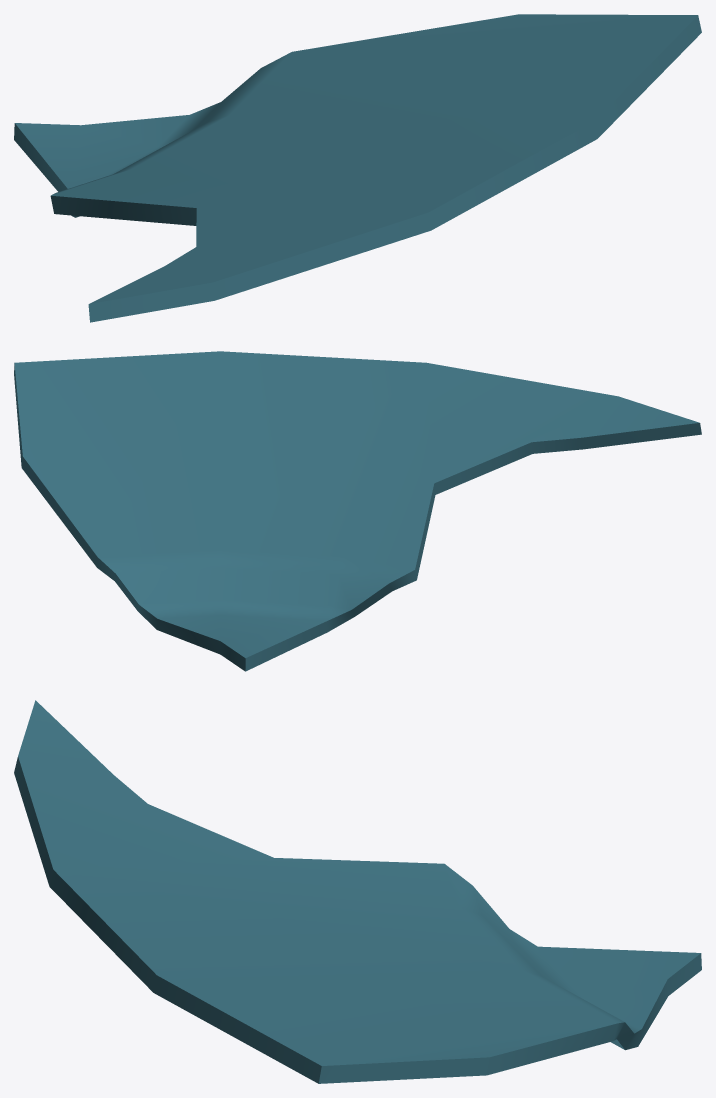
The model's file is SM_SmallTrashkit_Plat3_005.fbx.
3 views of the same model, one above another, from view 1: azimuth 30°, elevation 25°; view 2: azimuth 150°, elevation 25°; view 3: azimuth 270°, elevation 25° (orthographic). The views are drawn at different scales.
Visible parts, largest first — view 1: SM_SmallTrashkit_Plat3_005; view 2: SM_SmallTrashkit_Plat3_005; view 3: SM_SmallTrashkit_Plat3_005.
Part boxes in pixels (<box>): SM_SmallTrashkit_Plat3_005: <box>14,14,701,322</box>; SM_SmallTrashkit_Plat3_005: <box>14,351,701,671</box>; SM_SmallTrashkit_Plat3_005: <box>14,700,701,1083</box>.
Size of the model in its own units: 18.04 by 3.41 by 14.28.
